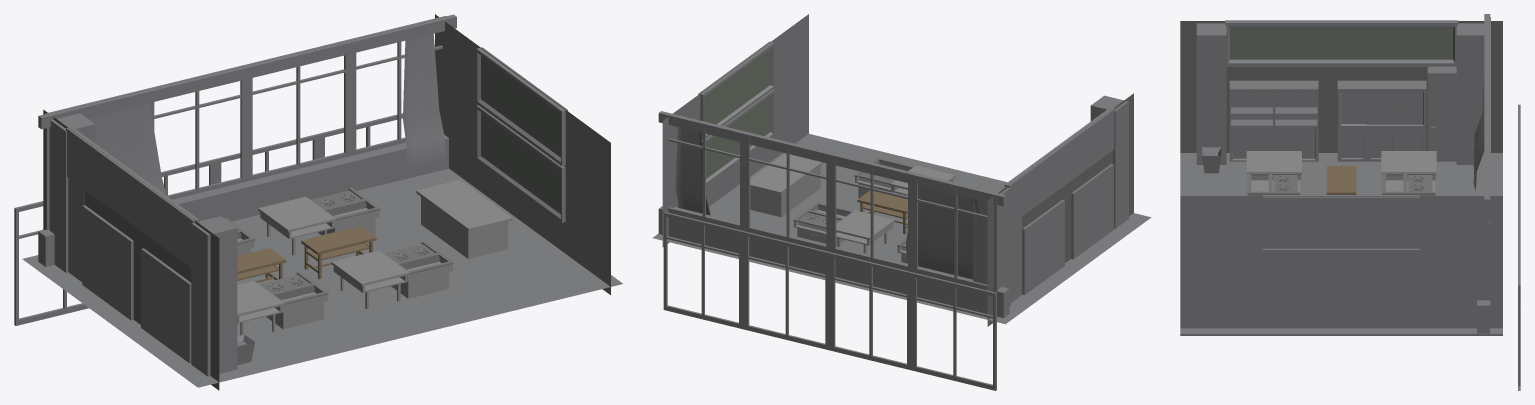
File: 3d_schoolkitchen.fbx
The picture shows the model from 3 angles, left to right: view 1: azimuth 30°, elevation 25°; view 2: azimuth 150°, elevation 25°; view 3: azimuth 270°, elevation 25°; orthographic projection. The views are drawn at different scales.
Parts seen in each view (by area): view 1: pPlane4, pPlane38, pPlane2, pPlane41, pPlane37, pCube229, pPlane43, pPlane40, pPlane39, pPlane46, pCube266 (×3), pPlane36 (+11 smaller); view 2: pPlane42, pPlane4, pPlane41, pPlane38, pPlane2, pPlane37, pPlane44, pPlane40, pPlane36, pCube230, pCube231, pPlane43 (+9 smaller); view 3: pPlane38, pPlane37, pPlane36, pPlane40, pPlane39, pPlane4, pCube230, pCube231, pCube229, pCube228, pCube148, pCube266 (×2) (+13 smaller).
Boxes of the visible parts, box(x1,y1,x2,y2) form: pPlane4: box(22, 168, 622, 387); pPlane38: box(435, 14, 610, 294); pPlane2: box(38, 135, 448, 266); pPlane41: box(45, 16, 446, 230); pPlane37: box(66, 126, 199, 267); pCube229: box(191, 216, 237, 376); pPlane43: box(38, 14, 456, 129); pPlane40: box(476, 47, 567, 166); pPlane39: box(476, 105, 565, 222); pPlane46: box(403, 34, 445, 166); pCube266 (×3): box(237, 196, 409, 316); pPlane36: box(43, 109, 219, 390); pPlane42: box(663, 212, 996, 390); pPlane4: box(653, 134, 1151, 324); pPlane41: box(664, 113, 997, 292); pPlane38: box(662, 14, 808, 247); pPlane2: box(658, 206, 1009, 317); pPlane37: box(1004, 107, 1114, 224); pPlane44: box(906, 185, 980, 279); pPlane40: box(698, 41, 774, 139); pPlane36: box(987, 93, 1133, 326); pCube230: box(1071, 163, 1113, 259); pCube231: box(1022, 199, 1064, 294); pPlane43: box(658, 111, 1005, 206); pPlane38: box(1180, 196, 1502, 335); pPlane37: box(1225, 20, 1457, 66); pPlane36: box(1180, 21, 1502, 152); pPlane40: box(1263, 195, 1419, 247); pPlane39: box(1263, 248, 1419, 299); pPlane4: box(1180, 153, 1502, 333); pCube230: box(1229, 80, 1318, 161); pCube231: box(1337, 80, 1426, 161); pCube229: box(1196, 23, 1226, 164); pCube228: box(1456, 23, 1484, 164); pCube148: box(1427, 66, 1456, 161); pCube266 (×2): box(1246, 151, 1436, 174).
Bounding box in the file's own units: 14.34 × 7.08 × 10.84.
